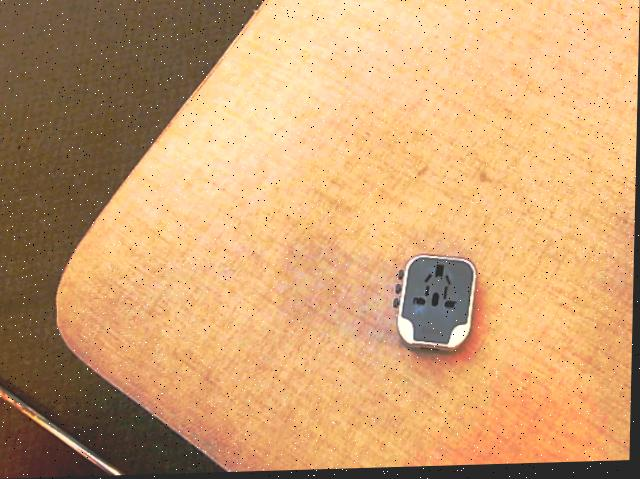adapter: (393, 255, 478, 357)
